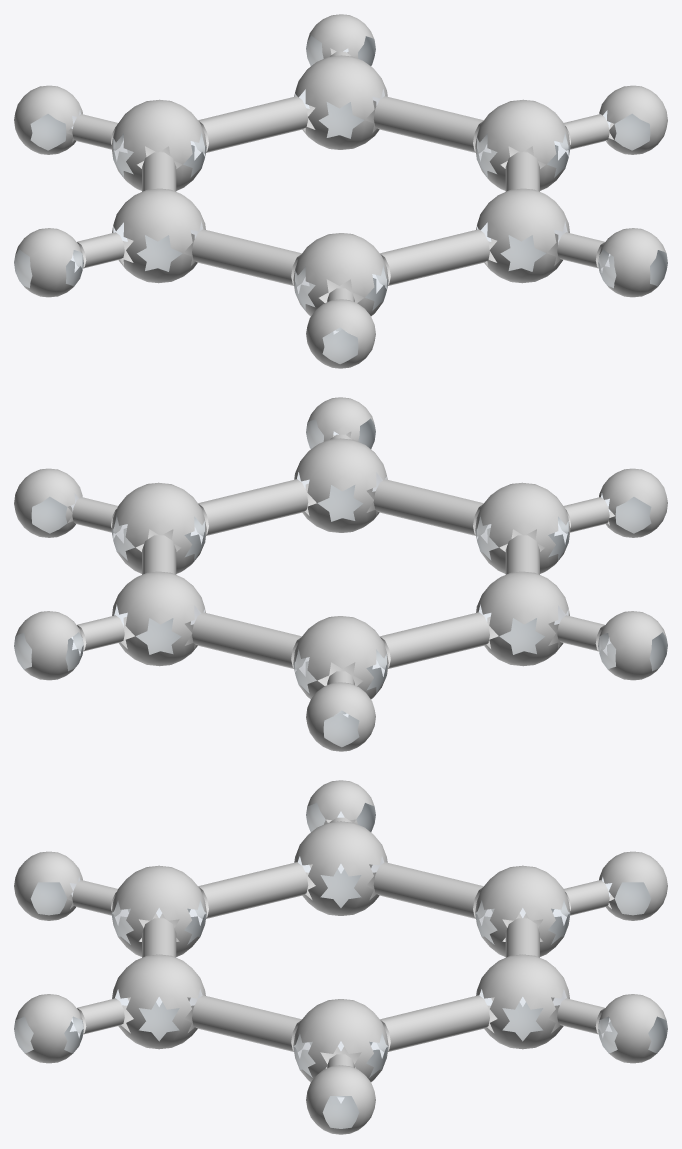
The model's file is station.glb.
3 renders of one model, top to bottom at view 1: azimuth 30°, elevation 25°; view 2: azimuth 150°, elevation 25°; view 3: azimuth 270°, elevation 25°, orthographic.
Visible parts, largest first — view 1: heavy, bonds, hydrogen, glass, heavy_inner, hydrogen_inner, bonds_inner; view 2: heavy, bonds, hydrogen, glass, heavy_inner, hydrogen_inner, bonds_inner; view 3: heavy, bonds, hydrogen, glass, heavy_inner, hydrogen_inner, bonds_inner.
Boxes of the visible parts, bbox=[...] form: heavy: bbox=[111, 55, 570, 316]; bonds: bbox=[72, 51, 609, 302]; hydrogen: bbox=[14, 14, 667, 368]; glass: bbox=[14, 36, 667, 363]; heavy_inner: bbox=[113, 88, 570, 310]; hydrogen_inner: bbox=[14, 35, 667, 364]; bonds_inner: bbox=[73, 121, 608, 331]; heavy: bbox=[111, 438, 570, 699]; bonds: bbox=[72, 434, 609, 685]; hydrogen: bbox=[14, 397, 667, 751]; glass: bbox=[14, 419, 667, 746]; heavy_inner: bbox=[111, 471, 568, 693]; hydrogen_inner: bbox=[14, 418, 667, 747]; bonds_inner: bbox=[73, 504, 608, 714]; heavy: bbox=[111, 821, 570, 1081]; bonds: bbox=[72, 817, 609, 1067]; hydrogen: bbox=[14, 780, 667, 1134]; glass: bbox=[14, 803, 667, 1128]; heavy_inner: bbox=[111, 855, 570, 1077]; hydrogen_inner: bbox=[14, 802, 667, 1129]; bonds_inner: bbox=[72, 887, 609, 1097].
Size of the model in its own units: 2.34 by 0.3 by 2.06.
